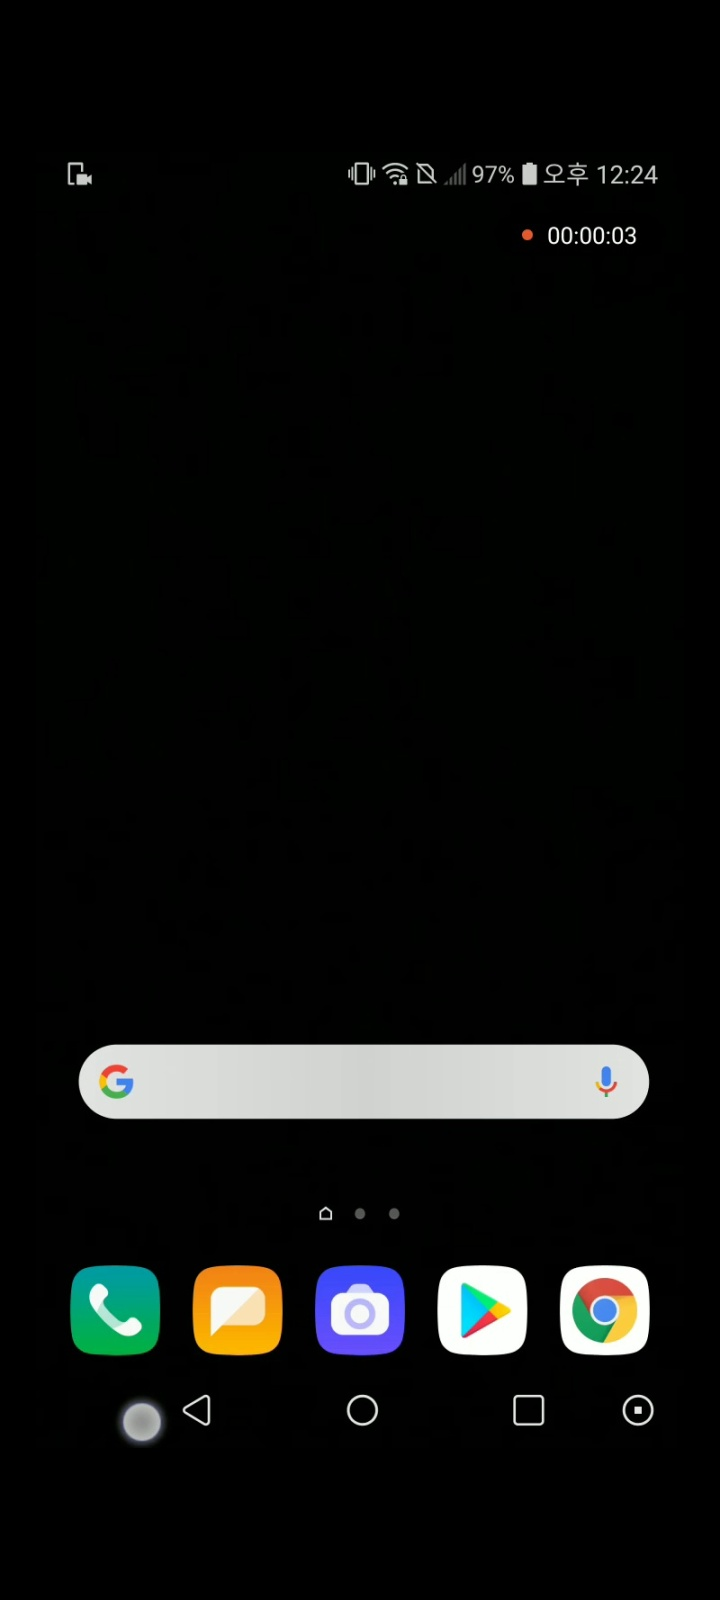Cursor: (118, 1400, 163, 1445)
